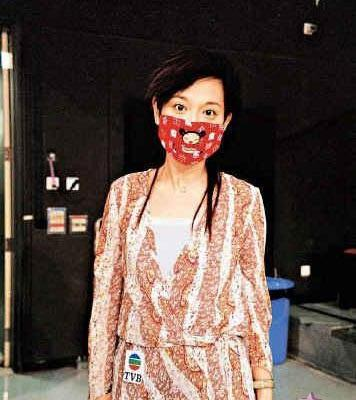OK: (160, 91, 233, 164)
